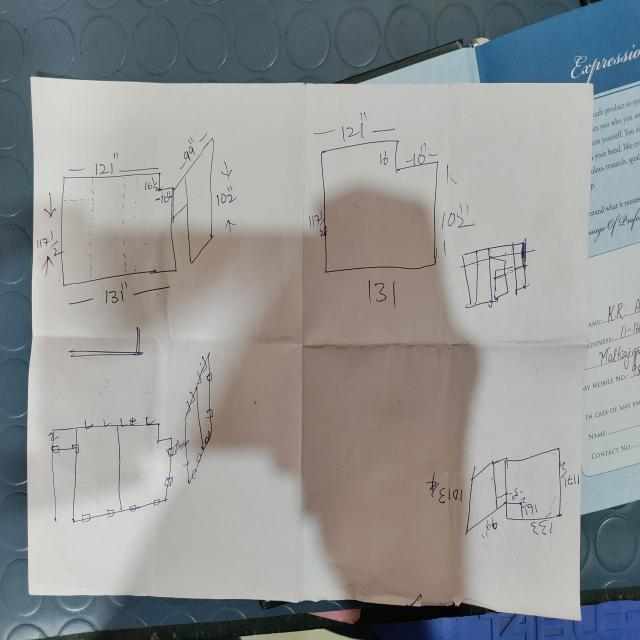dry: (20, 58, 600, 625)
